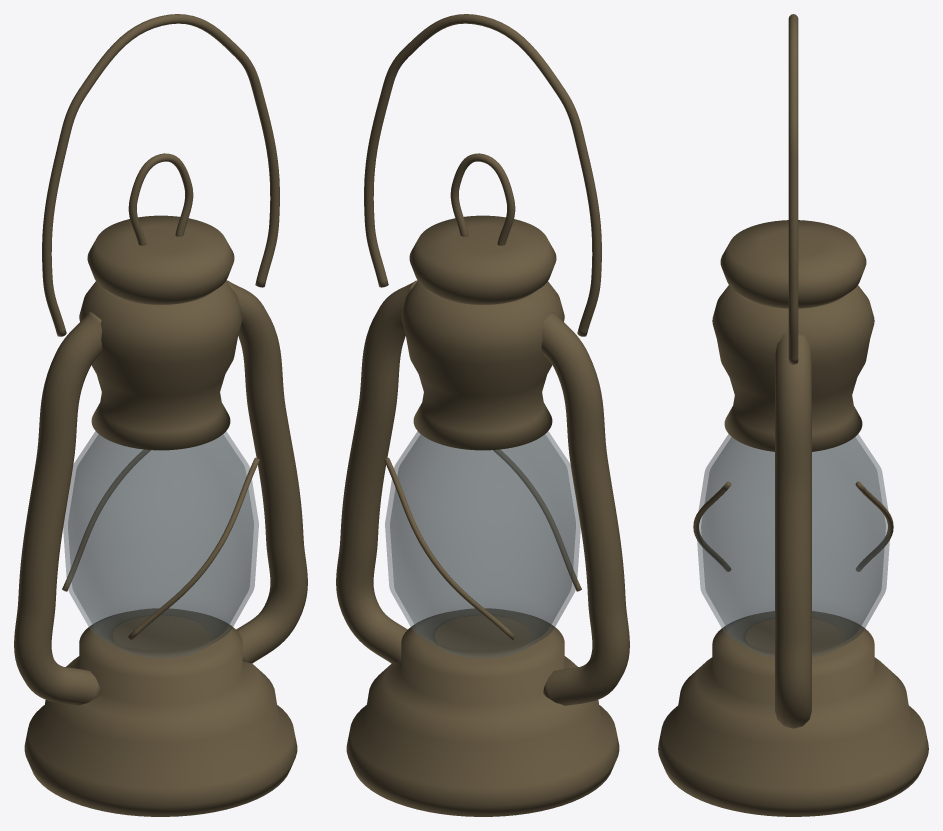
File: result.glb
The picture shows the model from 3 angles, left to right: view 1: azimuth 30°, elevation 25°; view 2: azimuth 150°, elevation 25°; view 3: azimuth 270°, elevation 25°; orthographic projection.
Visible parts, largest first — view 1: Fuel base, Globe, Chimney, Cage -1, Cage 1, Top cap, handle, Small cap loop, Cross guard 1, Cross guard -1; view 2: Fuel base, Globe, Chimney, Cage -1, Cage 1, Top cap, handle, Small cap loop, Cross guard -1, Cross guard 1; view 3: Fuel base, Globe, Chimney, Cage 1, Top cap, handle, Cross guard -1, Cross guard 1.
Boxes of the visible parts, bbox=[...] form: Fuel base: bbox=[24, 608, 297, 816]; Globe: bbox=[63, 431, 258, 657]; Chimney: bbox=[79, 281, 242, 450]; Cage -1: bbox=[14, 311, 102, 705]; Cage 1: bbox=[226, 280, 307, 663]; Top cap: bbox=[87, 215, 234, 304]; handle: bbox=[42, 14, 279, 336]; Small cap loop: bbox=[128, 153, 193, 245]; Cross guard 1: bbox=[128, 457, 259, 640]; Cross guard -1: bbox=[62, 450, 150, 591]; Fuel base: bbox=[346, 608, 619, 816]; Globe: bbox=[385, 431, 580, 657]; Chimney: bbox=[401, 281, 564, 450]; Cage -1: bbox=[541, 311, 629, 705]; Cage 1: bbox=[336, 280, 417, 663]; Top cap: bbox=[409, 215, 556, 304]; handle: bbox=[364, 14, 601, 336]; Small cap loop: bbox=[450, 153, 515, 245]; Cross guard -1: bbox=[384, 457, 515, 640]; Cross guard 1: bbox=[493, 450, 581, 591]; Fuel base: bbox=[658, 611, 928, 816]; Globe: bbox=[696, 434, 890, 657]; Chimney: bbox=[712, 285, 874, 451]; Cage 1: bbox=[775, 334, 811, 728]; Top cap: bbox=[720, 220, 866, 308]; handle: bbox=[788, 14, 798, 364]; Cross guard -1: bbox=[855, 481, 893, 571]; Cross guard 1: bbox=[693, 481, 731, 571].
Size of the model in its own units: 0.4082 by 1.01 by 0.334.
10 materials, 10 textured.
